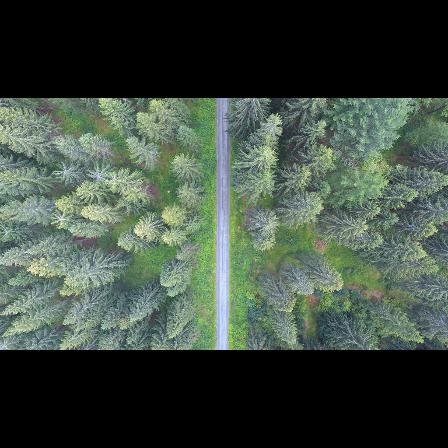Sick: (84, 161, 113, 189), (52, 159, 80, 187), (46, 208, 72, 234)
